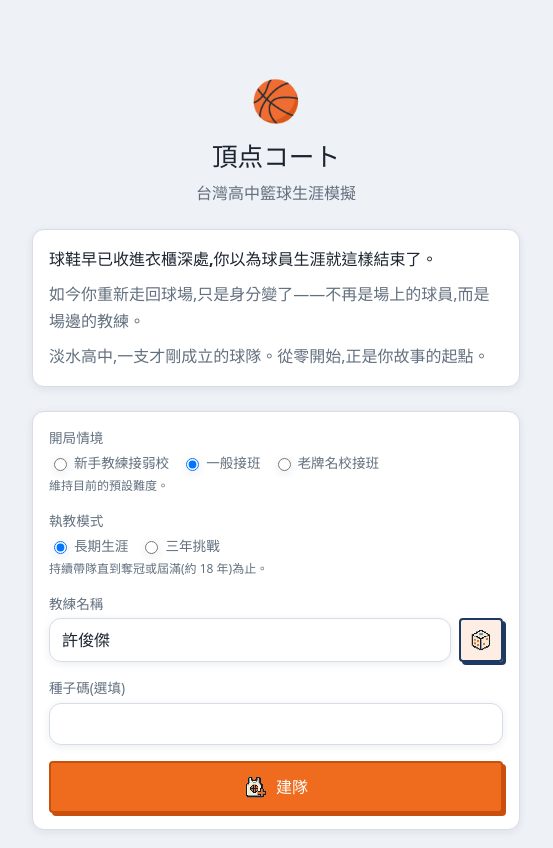
Test: App › shows the schedule strip counting down to the season opener from week 1
Replace the text in the field labelled "教練名稱" with "山田" at (250, 640), box [49, 618, 451, 662]
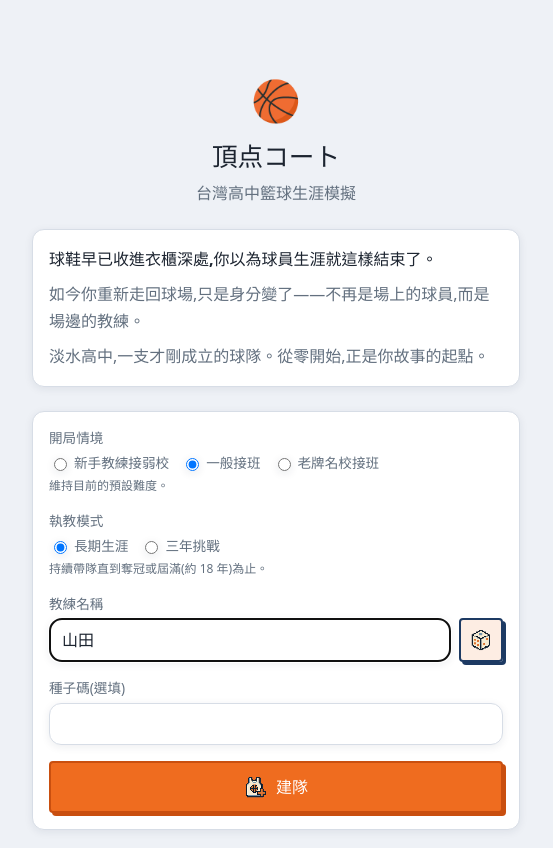
Click the button "建隊".
click(276, 787)  # box [49, 761, 503, 813]
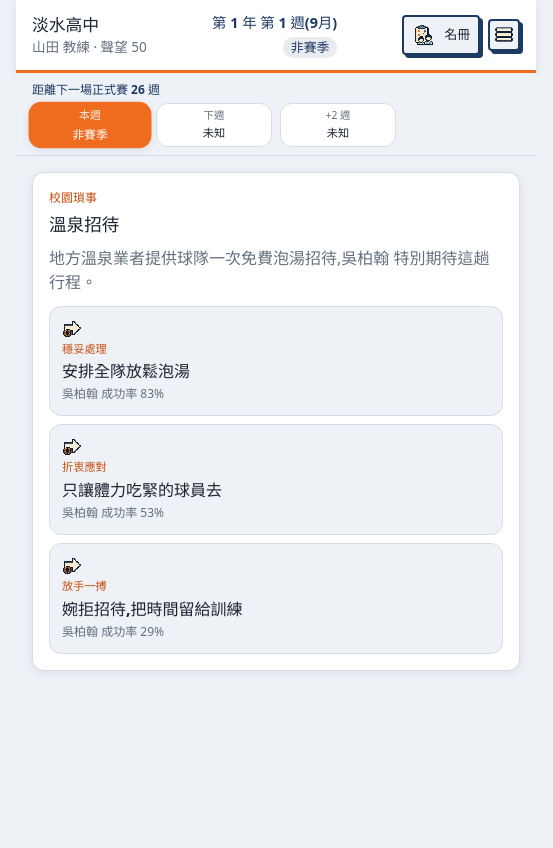
Expected: the text "距離下一場正式賽 26 週" is shown, [32, 81, 160, 98]
Expected: the text "本週" is shown, [79, 107, 101, 123]
Expected: the text "未知" below "下週" is shown, [203, 125, 225, 140]
